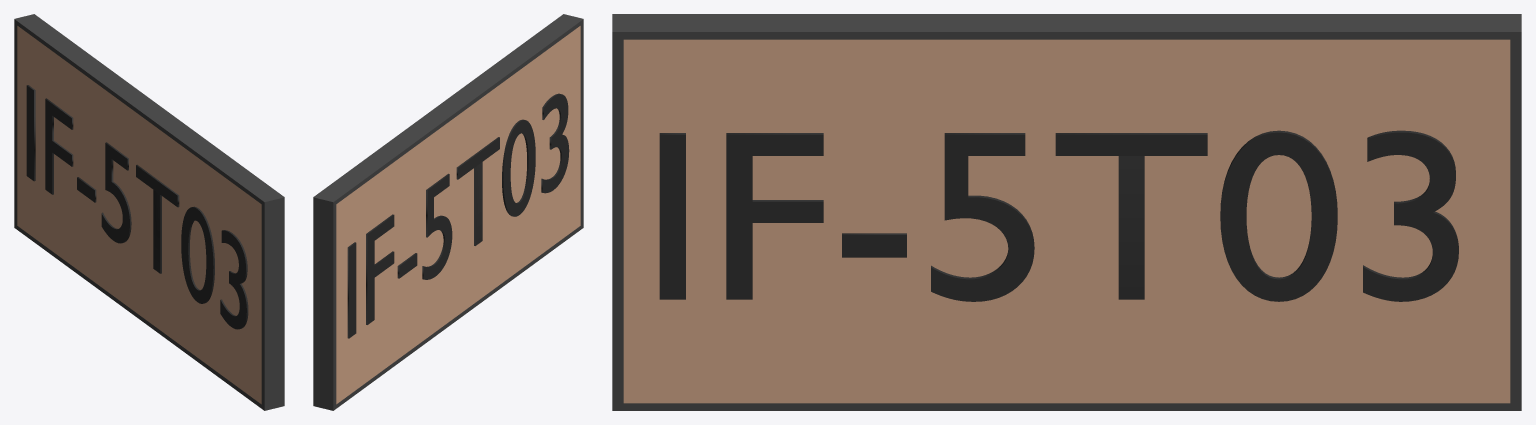
The picture shows the model from 3 angles, left to right: view 1: azimuth 30°, elevation 25°; view 2: azimuth 150°, elevation 25°; view 3: azimuth 270°, elevation 25°; orthographic projection. The views are drawn at different scales.
Parts seen in each view (by area): view 1: Cube; view 2: Cube; view 3: Cube.
Part boxes in pixels (x1,y1,x2,y2): Cube: (14, 14, 284, 410); Cube: (313, 14, 583, 410); Cube: (612, 14, 1521, 410).
Bounding box in the file's own units: 12.6 × 105 × 229.
